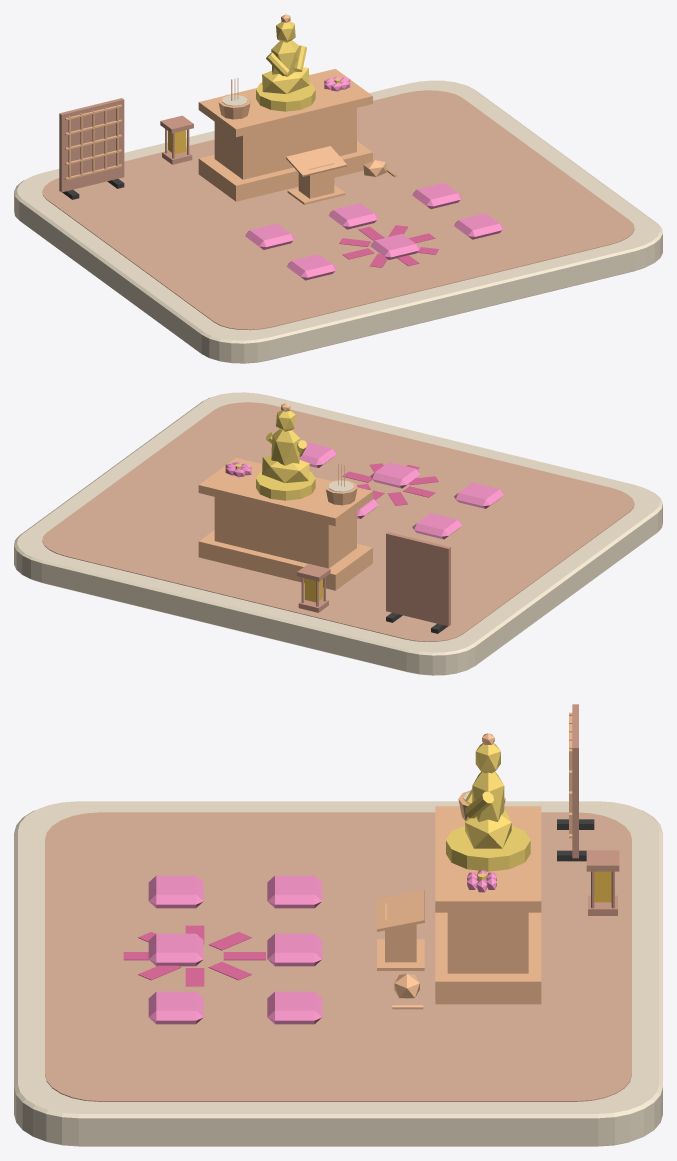
Rendered from room.fbx.
The picture shows the model from 3 angles, top to bottom: view 1: azimuth 30°, elevation 25°; view 2: azimuth 150°, elevation 25°; view 3: azimuth 270°, elevation 25°; orthographic projection. The views are drawn at different scales.
Parts seen in each view (by area): view 1: COM-02 Floor Surface, COM-01 Rounded Base Direct, Altar, Panel, Top, Base, Reading top, Lotus base, Folded legs, Body, Meditation cushion.001, Meditation cushion.005 (+5 smaller); view 2: COM-02 Floor Surface, COM-01 Rounded Base Direct, Altar, Panel, Top, Base, Lotus base, Folded legs, Robe torso, Meditation cushion, Meditation cushion.003, Meditation cushion.004 (+2 smaller); view 3: COM-02 Floor Surface, COM-01 Rounded Base Direct, Top, Altar, Base, Lotus base, Meditation cushion.001, Meditation cushion.002, Meditation cushion.003, Meditation cushion.005, Meditation cushion, Meditation cushion.004 (+8 smaller).
Boxes of the visible parts, x1,y1,x2,y2 form: COM-02 Floor Surface: [42, 90, 634, 330]; COM-01 Rounded Base Direct: [14, 80, 662, 363]; Altar: [214, 108, 356, 179]; Panel: [59, 98, 124, 192]; Top: [198, 69, 372, 137]; Base: [198, 141, 372, 201]; Reading top: [286, 146, 347, 176]; Lotus base: [256, 82, 315, 111]; Folded legs: [262, 67, 309, 94]; Body: [298, 163, 334, 198]; Meditation cushion.001: [328, 203, 378, 229]; Meditation cushion.005: [454, 213, 504, 239]; COM-02 Floor Surface: [42, 402, 634, 641]; COM-01 Rounded Base Direct: [14, 392, 662, 675]; Altar: [214, 497, 356, 568]; Panel: [386, 532, 450, 626]; Top: [198, 458, 372, 526]; Base: [198, 530, 372, 590]; Lotus base: [256, 471, 315, 500]; Folded legs: [262, 456, 309, 483]; Robe torso: [271, 429, 300, 465]; Meditation cushion: [412, 513, 462, 539]; Meditation cushion.003: [454, 482, 503, 508]; Meditation cushion.004: [370, 462, 420, 488]; COM-02 Floor Surface: [45, 812, 631, 1101]; COM-01 Rounded Base Direct: [14, 801, 662, 1146]; Top: [435, 806, 541, 912]; Altar: [447, 912, 528, 973]; Base: [435, 912, 541, 1004]; Lotus base: [446, 825, 530, 871]; Meditation cushion.001: [267, 933, 322, 966]; Meditation cushion.002: [267, 991, 322, 1024]; Meditation cushion.003: [148, 875, 203, 908]; Meditation cushion.005: [148, 991, 203, 1024]; Meditation cushion: [267, 875, 322, 908]; Meditation cushion.004: [148, 933, 203, 966].
Bounding box in the file's own units: 600 × 227 × 520.
